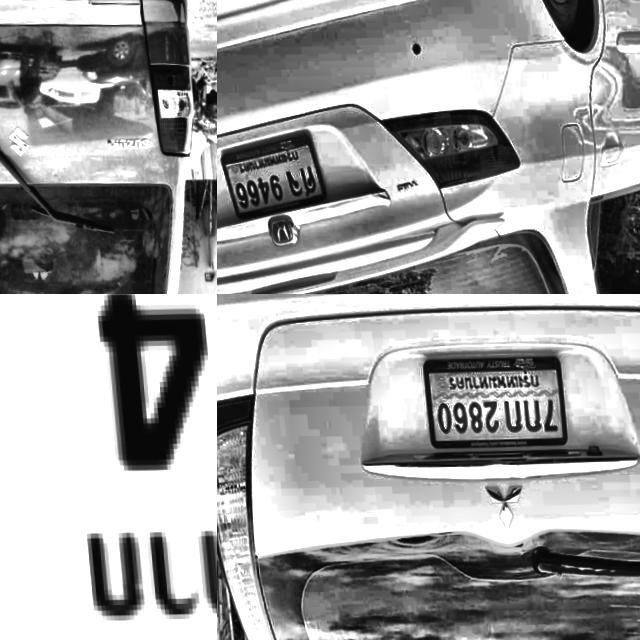license-plate: (0, 294, 217, 640), (419, 352, 562, 453), (217, 125, 324, 225)
